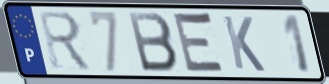1: (282, 13, 311, 77)
7: (87, 9, 122, 75)
B: (126, 11, 181, 74)
E: (171, 9, 229, 77)
K: (220, 13, 267, 74)
R: (36, 9, 95, 73)
